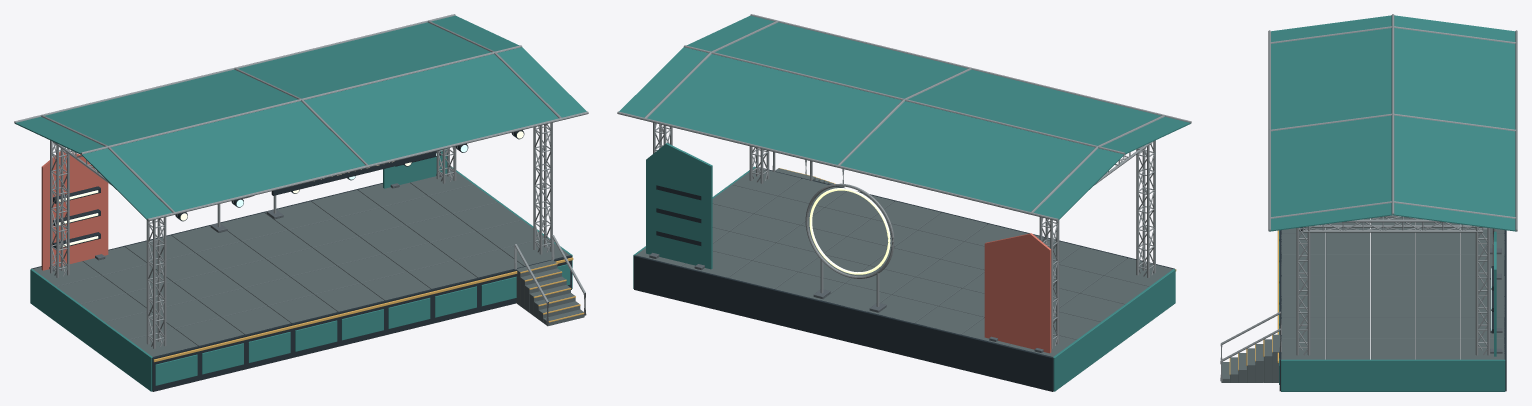
File: AH02_Stage.fbx
3 views of the same model, side by side, from view 1: azimuth 30°, elevation 25°; view 2: azimuth 150°, elevation 25°; view 3: azimuth 270°, elevation 25° (orthographic). The views are drawn at different scales.
Visible parts, largest first — view 1: AH02_Stage_AH02_Teal, AH02_Stage_AH02_Deck, AH02_Stage_AH02_Metal, AH02_Stage_AH02_Ink, AH02_Stage_AH02_Coral, AH02_Stage_AH02_Ochre; view 2: AH02_Stage_AH02_Teal, AH02_Stage_AH02_Deck, AH02_Stage_AH02_Ink, AH02_Stage_AH02_Metal, AH02_Stage_AH02_Coral, AH02_Stage_AH02_GoldGlow; view 3: AH02_Stage_AH02_Teal, AH02_Stage_AH02_Deck, AH02_Stage_AH02_Metal, AH02_Stage_AH02_Ink, AH02_Stage_AH02_Ochre.
Boxes of the visible parts, x1,y1,x2,y2 form: AH02_Stage_AH02_Teal: [15, 15, 586, 391]; AH02_Stage_AH02_Deck: [33, 167, 584, 356]; AH02_Stage_AH02_Metal: [14, 14, 588, 348]; AH02_Stage_AH02_Ink: [31, 130, 571, 391]; AH02_Stage_AH02_Coral: [41, 151, 108, 270]; AH02_Stage_AH02_Ochre: [153, 257, 584, 362]; AH02_Stage_AH02_Teal: [619, 15, 1190, 391]; AH02_Stage_AH02_Deck: [636, 167, 1172, 356]; AH02_Stage_AH02_Ink: [634, 167, 1174, 391]; AH02_Stage_AH02_Metal: [617, 14, 1191, 348]; AH02_Stage_AH02_Coral: [984, 233, 1051, 353]; AH02_Stage_AH02_GoldGlow: [809, 188, 890, 274]; AH02_Stage_AH02_Teal: [1269, 15, 1516, 391]; AH02_Stage_AH02_Deck: [1221, 217, 1504, 382]; AH02_Stage_AH02_Metal: [1220, 14, 1517, 381]; AH02_Stage_AH02_Ink: [1279, 227, 1506, 391]; AH02_Stage_AH02_Ochre: [1229, 230, 1278, 374].
Bounding box in the file's own units: 1890 × 810 × 1193.
